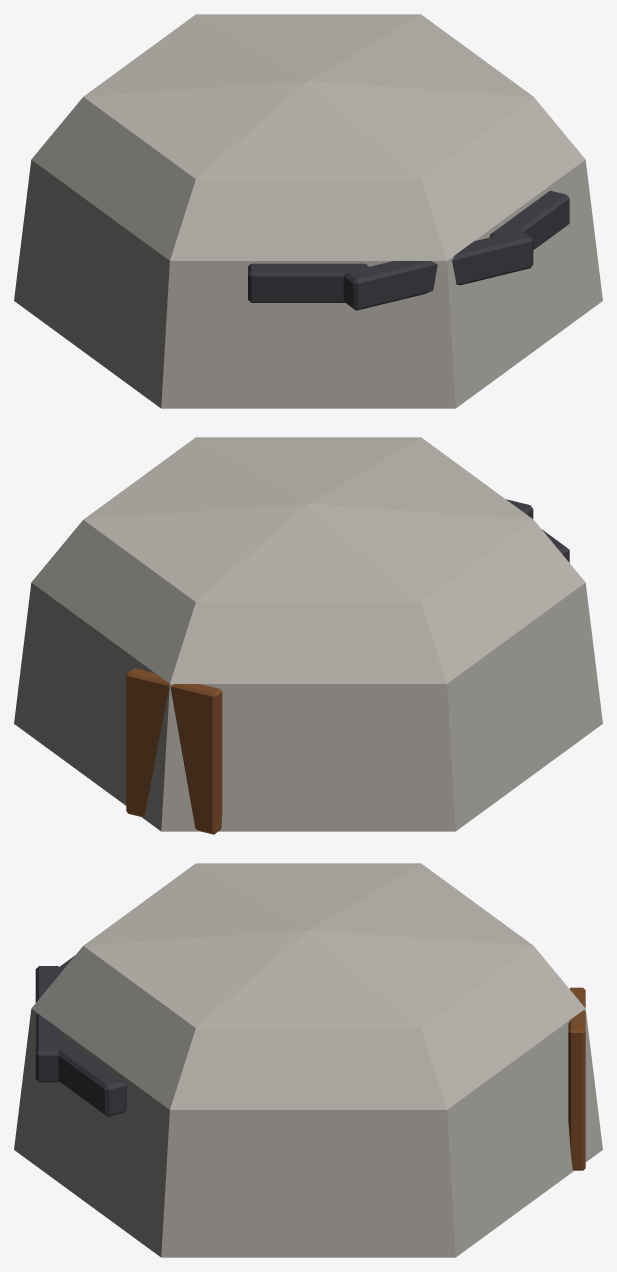
The model's file is Pillbox.fbx.
3 renders of one model, top to bottom at view 1: azimuth 30°, elevation 25°; view 2: azimuth 150°, elevation 25°; view 3: azimuth 270°, elevation 25°, orthographic.
Visible parts, largest first — view 1: Pillbox; view 2: Pillbox; view 3: Pillbox.
Part boxes in pixels (x1,y1,x2,y2): Pillbox: (14, 14, 602, 408); Pillbox: (14, 437, 602, 834); Pillbox: (14, 863, 602, 1257).
Bounding box in the file's own units: 5.89 × 2.8 × 6.8.
1 material, 1 textured.
